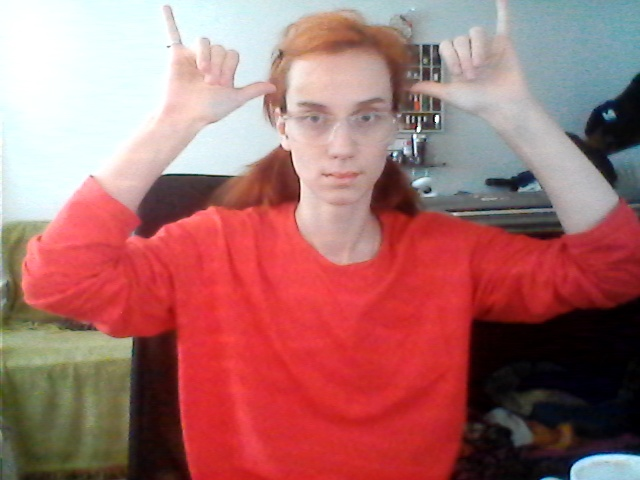krava: (161, 1, 525, 130)
